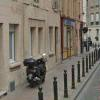Motorcycle: (19, 52, 59, 87)
